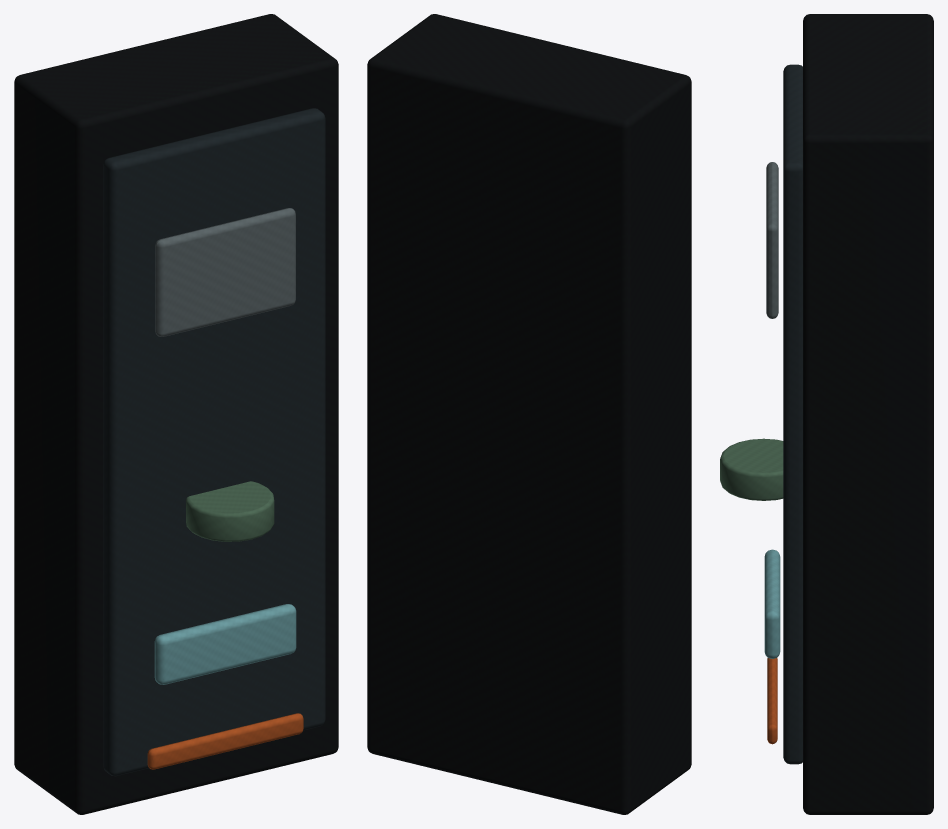
Rendered from WallIntercom.fbx.
The picture shows the model from 3 angles, left to right: view 1: azimuth 30°, elevation 25°; view 2: azimuth 150°, elevation 25°; view 3: azimuth 270°, elevation 25°; orthographic projection. The views are drawn at different scales.
Parts seen in each view (by area): view 1: WallIntercom_Mesh; view 2: WallIntercom_Mesh; view 3: WallIntercom_Mesh.
Part boxes in pixels (x1=…): WallIntercom_Mesh: x1=14, y1=14, x2=338, y2=814; WallIntercom_Mesh: x1=367, y1=14, x2=691, y2=814; WallIntercom_Mesh: x1=720, y1=14, x2=933, y2=814.
Size of the model in its own units: 34 by 86 by 24.5.
